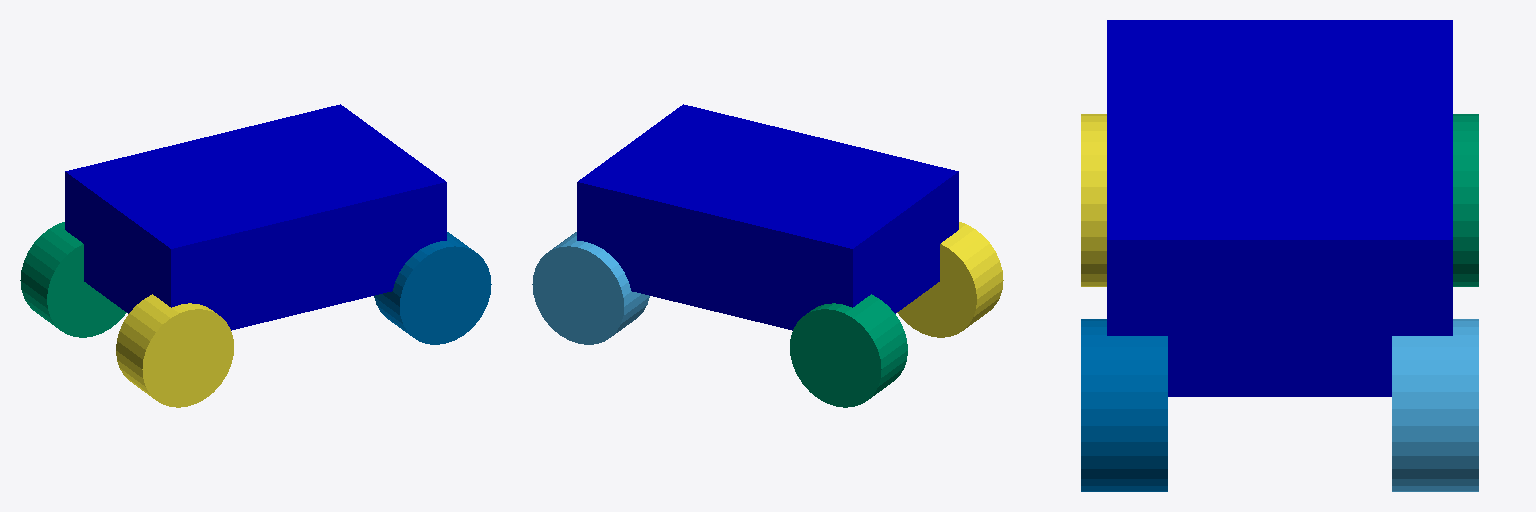
robot.urdf — little_car:
<?xml version="1.0" ?>
<robot name = "little_car">
	<link name = "base_link">
	<!-- 在此处搭一个小车模型，
			重心离地0.05,
			视图为一个0.3×0.2×0.1的蓝色长方体，
			碰撞箱为0.21×0.3×0.11
			质量为10 -->
		<inertial>
			<origin xyz = "0 0 0.05" rpy = "0 0 0"/>
			<mass value = "10"/>
			<inertia ixx="1"  ixy="0"  ixz="0" iyy="1" iyz="0" izz="1" />
		</inertial>
		
		<visual>
			<oringin xyz = "0 0 0" rpy = "0 0 0"/>
			<geometry>
				<box size = "0.3 0.2 0.1"/>
			</geometry>
			<material name = "Blue">
				<color rgba = "0 0 0.8 1"/>
			</material>
		</visual>
		<collision>
			<origin xyz = "0 0 0" rpy = "0 0 0"/>
			<geometry>
				<box size = "0.21 0.3 0.11"/>
			</geometry>
		</collision>
	</link>

	<!-- front wheel -->
	<link name="wheel_1" > 
		<inertial>
			<origni xyz = "0 0 0" rpy = "0 0 0"/>
			<mass value = "10"/>
			<inertia ixx="1"  ixy="0"  ixz="0" iyy="1" iyz="0" izz="1" />
		</inertial>
		<visual>
			<origin xyz = "0 0 0" rpy = "0 0 0"/>
			<geometry>
				<cylinder length = "0.05" radius = "0.05"/>
			</geometry>
		</visual>
		<collision>
			<origin xyz = "0 0 0" rpy = "0 0 0"/>
			<geometry>
				<cylinder length = "0.05" radius = "0.05"/>
			</geometry>
		</collision>
			<!-- 在此处搭一个轮子，
			视图为一个0.05长，0.05半径的圆柱体，
			碰撞箱同上
			质量为10 -->
		
	</link>

	<link name="wheel_2" >
		<inertial>
			<origni xyz = "0 0 0" rpy = "0 0 0"/>
			<mass value = "10"/>
			<inertia ixx="1"  ixy="0"  ixz="0" iyy="1" iyz="0" izz="1" />
		</inertial>
		<visual>
			<origin xyz = "0 0 0" rpy = "0 0 0"/>
			<geometry>
				<cylinder length = "0.05" radius = "0.05"/>
			</geometry>
		</visual>
		<collision>
			<origin xyz = "0 0 0" rpy = "0 0 0"/>
			<geometry>
				<cylinder length = "0.05" radius = "0.05"/>
			</geometry>
		</collision>
		<!--   同上一个轮子  -->
	</link>


	<link name="wheel_3" >
		<inertial>
			<origni xyz = "0 0 0" rpy = "0 0 0"/>
			<mass value = "10"/>
			<inertia ixx="1"  ixy="0"  ixz="0" iyy="1" iyz="0" izz="1" />
		</inertial>
		<visual>
			<origin xyz = "0 0 0" rpy = "0 0 0"/>
			<geometry>
				<cylinder length = "0.05" radius = "0.05"/>
			</geometry>
		</visual>
		<collision>
			<origin xyz = "0 0 0" rpy = "0 0 0"/>
			<geometry>
				<cylinder length = "0.05" radius = "0.05"/>
			</geometry>
		</collision>
		<!--   同上一个轮子  -->
	</link>


	<link name="wheel_4" >
		<inertial>
			<origni xyz = "0 0 0" rpy = "0 0 0"/>
			<mass value = "10"/>
			<inertia ixx="1"  ixy="0"  ixz="0" iyy="1" iyz="0" izz="1" />
		</inertial>
		<visual>
			<origin xyz = "0 0 0" rpy = "0 0 0"/>
			<geometry>
				<cylinder length = "0.05" radius = "0.05"/>
			</geometry>
		</visual>
		<collision>
			<origin xyz = "0 0 0" rpy = "0 0 0"/>
			<geometry>
				<cylinder length = "0.05" radius = "0.05"/>
			</geometry>
		</collision>
		<!--   同上一个轮子  -->
	</link>

	<joint name="base_to_wheel_1" type="continuous">
		<!--在此处填入四个性质，下面三个轮子同理，注意分别链接在不同位置
		<parent               >
		<child                >
		<axis                 >
		<origin               >

		tips:转轴定为z轴（初始圆柱体正立放置）
			origin的xyz偏移按照上面的箱子计算得出，rpy绕y轴转90度（urdf中为弧度制）
			-->
		<parent link = "base_link"/>
		<child link = "wheel_1"/>
		<axis xyz = "0 0 -1"/>
		<origin rpy = "0 1.5707 1.5707" xyz = "0.14 0.09 -0.06"/>
		<joint_properties damping="20.0" friction="20.0"/>
	</joint>

	<joint name="base_to_wheel_2" type="continuous">
		<parent link = "base_link"/>
		<child link = "wheel_2"/>
		<axis xyz = "0 0 1"/>
		<origin rpy = "0 1.5707 1.5707" xyz = "-0.14 0.09 -0.06"/>
		<joint_properties damping="20.0" friction="20.0"/>
	</joint>


	<joint name="base_to_wheel_3" type="continuous">
		<parent link = "base_link"/>
		<child link = "wheel_3"/>
		<axis xyz = "0 0 1"/>
		<origin rpy = "0 1.5707 1.5707" xyz = "-0.14 -0.09 -0.06"/>
		<joint_properties damping="20.0" friction="20.0"/>
	</joint>


	<joint name="base_to_wheel_4" type="continuous">
		<parent link = "base_link"/>
		<child link = "wheel_4"/>
		<axis xyz = "0 0 -1"/>
		<origin rpy = "0 1.5707 1.5707" xyz = "0.14 -0.09 -0.06"/>
		<joint_properties damping="20.0" friction="20.0"/>
	</joint>
</robot>

--- What the picture shows (computed from the rendered views, not written in the file) ---
Views: 3 orthographic renders of the robot side by side, from view 1: azimuth 30°, elevation 25°; view 2: azimuth 150°, elevation 25°; view 3: azimuth 270°, elevation 25°.
Robot: little_car — 5 links, 4 joints (4 continuous); root link base_link; default pose: all joints at 0.
Visible links, largest first — view 1: base_link, wheel_3, wheel_4, wheel_2; view 2: base_link, wheel_2, wheel_1, wheel_3; view 3: base_link, wheel_1, wheel_4, wheel_2, wheel_3.
Boxes of the visible links, box(x1,y1,x2,y2) form: base_link: box(65, 104, 446, 330); wheel_3: box(116, 294, 233, 407); wheel_4: box(374, 232, 491, 344); wheel_2: box(20, 222, 126, 337); base_link: box(577, 104, 958, 330); wheel_2: box(790, 294, 907, 407); wheel_1: box(532, 232, 649, 344); wheel_3: box(897, 222, 1003, 337); base_link: box(1107, 20, 1452, 396); wheel_1: box(1392, 319, 1478, 491); wheel_4: box(1081, 319, 1167, 491); wheel_2: box(1453, 114, 1478, 286); wheel_3: box(1081, 114, 1106, 286).
Bounding box of the posed robot: 0.38 × 0.23 × 0.16 m (x, y, z).
Geometry: primitives only (box / cylinder / sphere), no mesh files.
